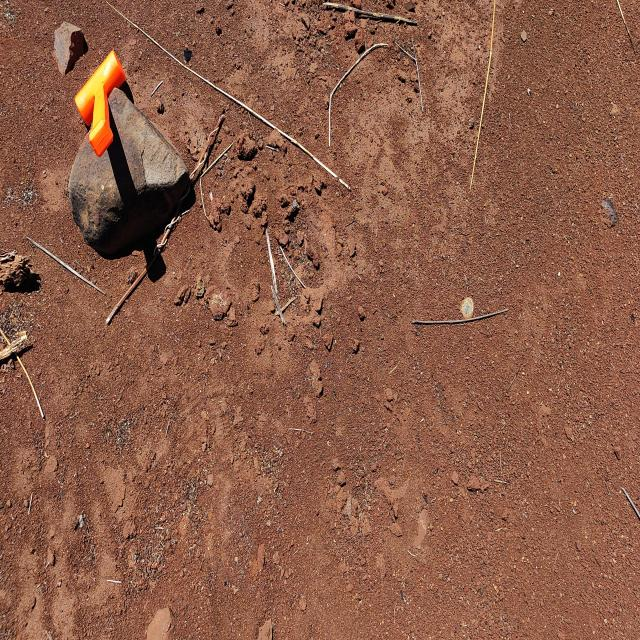Orange_hammer: (74, 48, 126, 158)
